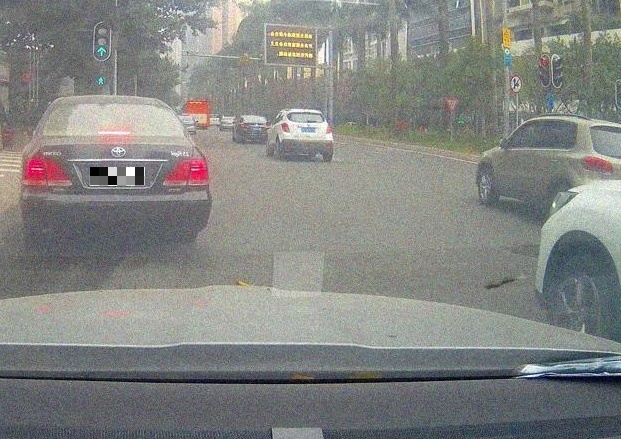L_light: (22, 159, 72, 186), (281, 122, 290, 133)
R_light: (163, 159, 209, 185), (326, 124, 332, 135)
T_light: (98, 129, 131, 136), (302, 112, 310, 114)
day-brake: (20, 95, 212, 243)
day-no: (281, 109, 334, 161)
plate_1: (90, 167, 145, 186)
